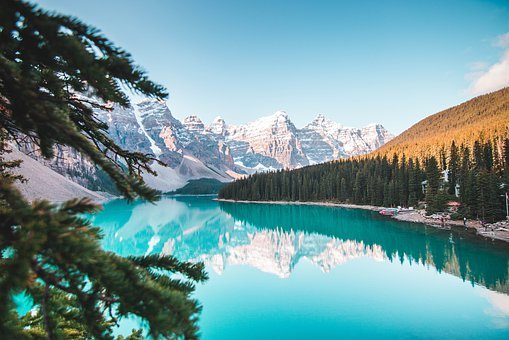lake: (64, 208, 506, 340)
mountain: (37, 93, 398, 194)
sky: (108, 4, 509, 118)
tree: (7, 2, 201, 340)
